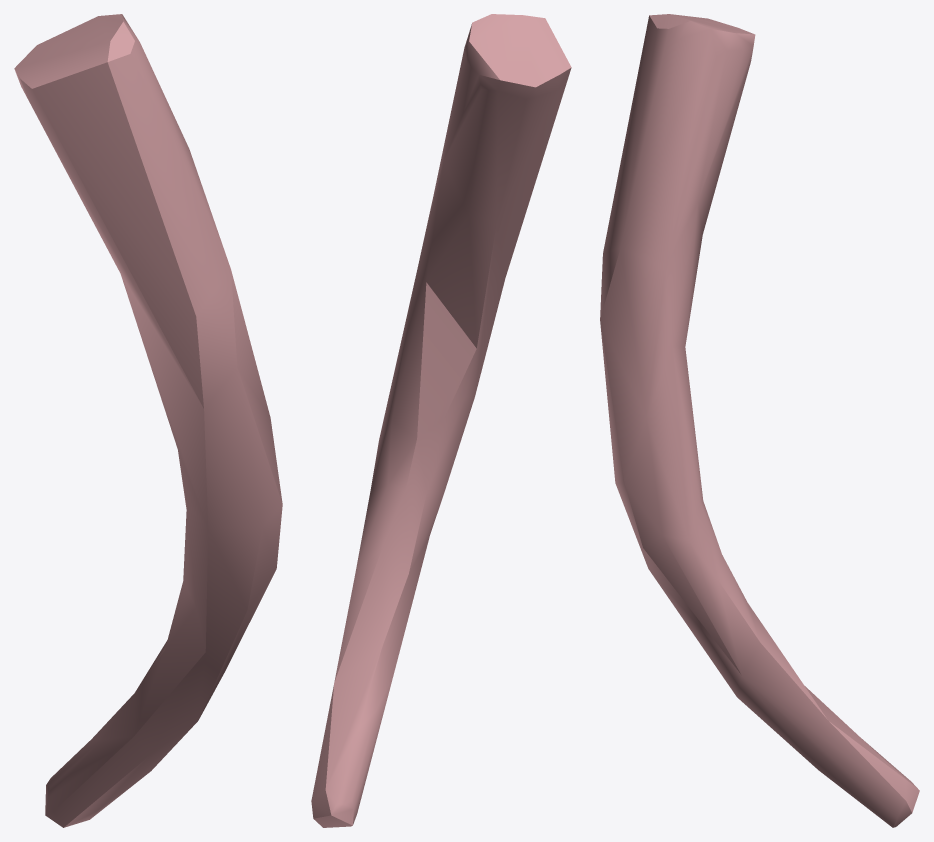
Rendered from fma68232_fj2533.glb.
3 views of the same model, side by side, from view 1: azimuth 30°, elevation 25°; view 2: azimuth 150°, elevation 25°; view 3: azimuth 270°, elevation 25° (orthographic). The views are drawn at different scales.
Parts seen in each view (by area): view 1: FMA68232_FJ2533; view 2: FMA68232_FJ2533; view 3: FMA68232_FJ2533.
Part boxes in pixels (x1,y1,x2,y2): FMA68232_FJ2533: (14,14,282,827); FMA68232_FJ2533: (311,14,571,827); FMA68232_FJ2533: (600,14,919,827).
Bounding box in the file's own units: 0.00911 × 0.034 × 0.0128.
